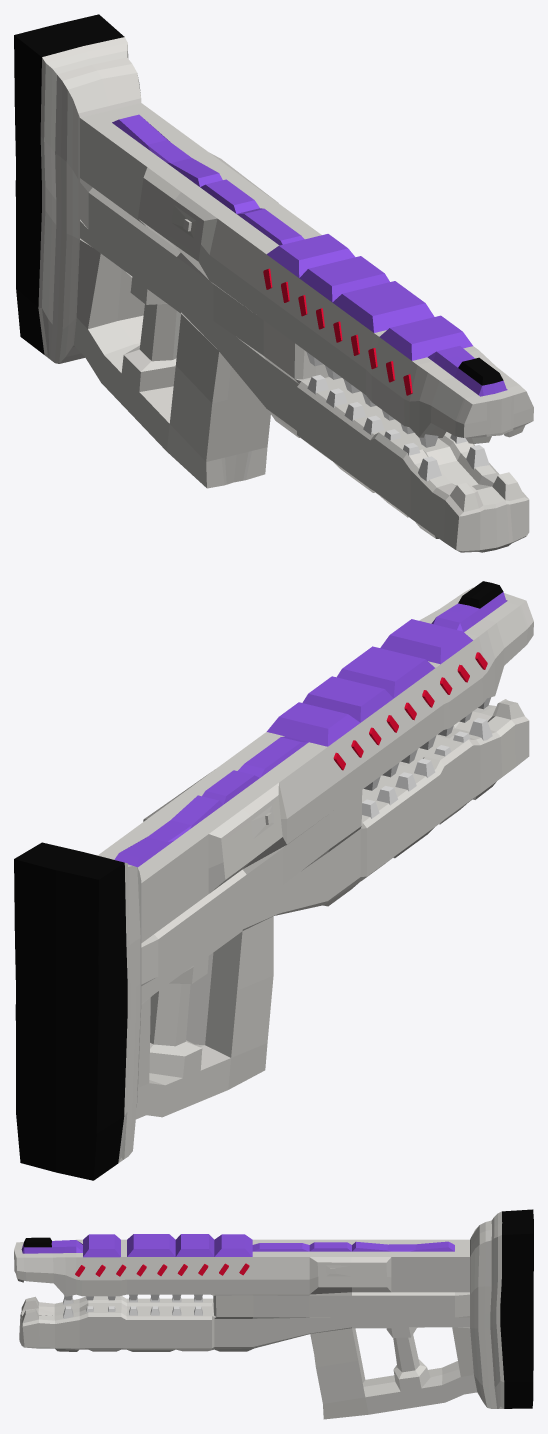
Rendered from Gun.fbx.
3 views of the same model, one above another, from view 1: azimuth 30°, elevation 25°; view 2: azimuth 150°, elevation 25°; view 3: azimuth 270°, elevation 25° (orthographic). The views are drawn at different scales.
Parts seen in each view (by area): view 1: Gun; view 2: Gun; view 3: Gun.
Part boxes in pixels (x1,y1,x2,y2): Gun: (14, 14, 533, 552); Gun: (14, 581, 533, 1180); Gun: (14, 1209, 533, 1419).
Bounding box in the file's own units: 411 × 1471 × 3626.
